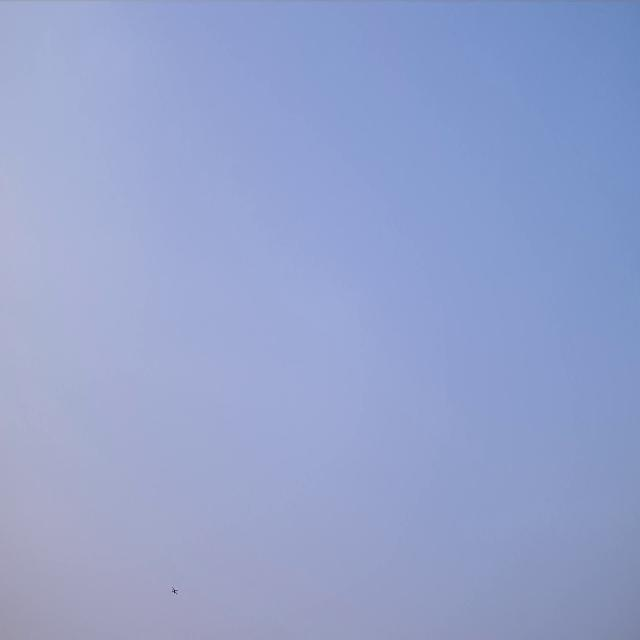UAV: (172, 587, 176, 593)
